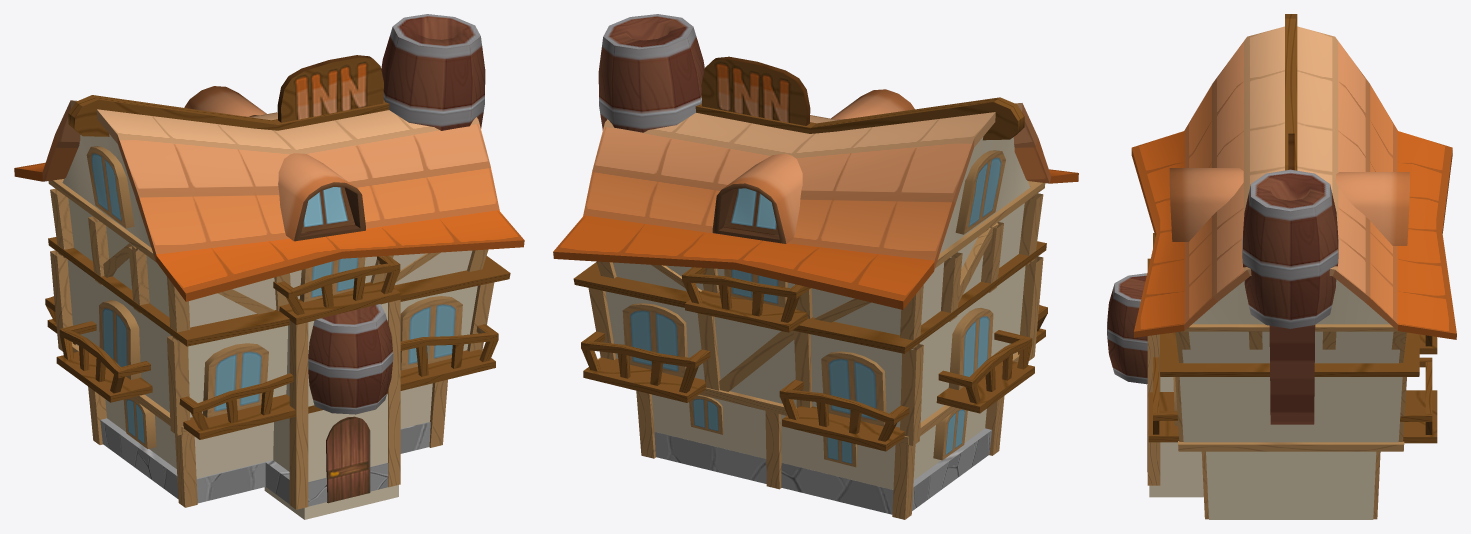
The model's file is building_inn_lv4.FBX.
3 renders of one model, left to right at view 1: azimuth 30°, elevation 25°; view 2: azimuth 150°, elevation 25°; view 3: azimuth 270°, elevation 25°, orthographic. The views are drawn at different scales.
Parts seen in each view (by area): view 1: building_inn_lv4, building_inn_roof_lv4, building_inn_main_lv4; view 2: building_inn_lv4, building_inn_roof_lv4, building_inn_main_lv4; view 3: building_inn_roof_lv4, building_inn_main_lv4, building_inn_lv4.
Part boxes in pixels (x1,y1,x2,y2): building_inn_lv4: (45, 14, 498, 509); building_inn_roof_lv4: (14, 100, 524, 301); building_inn_main_lv4: (48, 134, 510, 519); building_inn_lv4: (581, 14, 1047, 519); building_inn_roof_lv4: (553, 103, 1078, 309); building_inn_main_lv4: (573, 137, 1046, 489); building_inn_roof_lv4: (1131, 26, 1456, 339); building_inn_main_lv4: (1149, 279, 1419, 519); building_inn_lv4: (1107, 14, 1437, 519).
Bounding box in the file's own units: 528 × 495 × 420.
